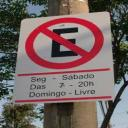NoEstacionar: (20, 10, 108, 72)
